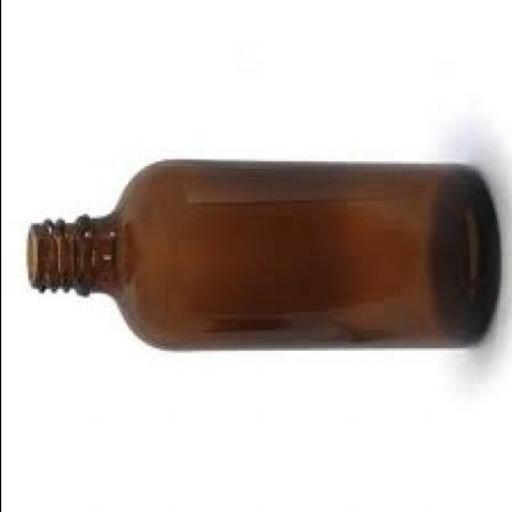glass: (25, 166, 498, 353)
